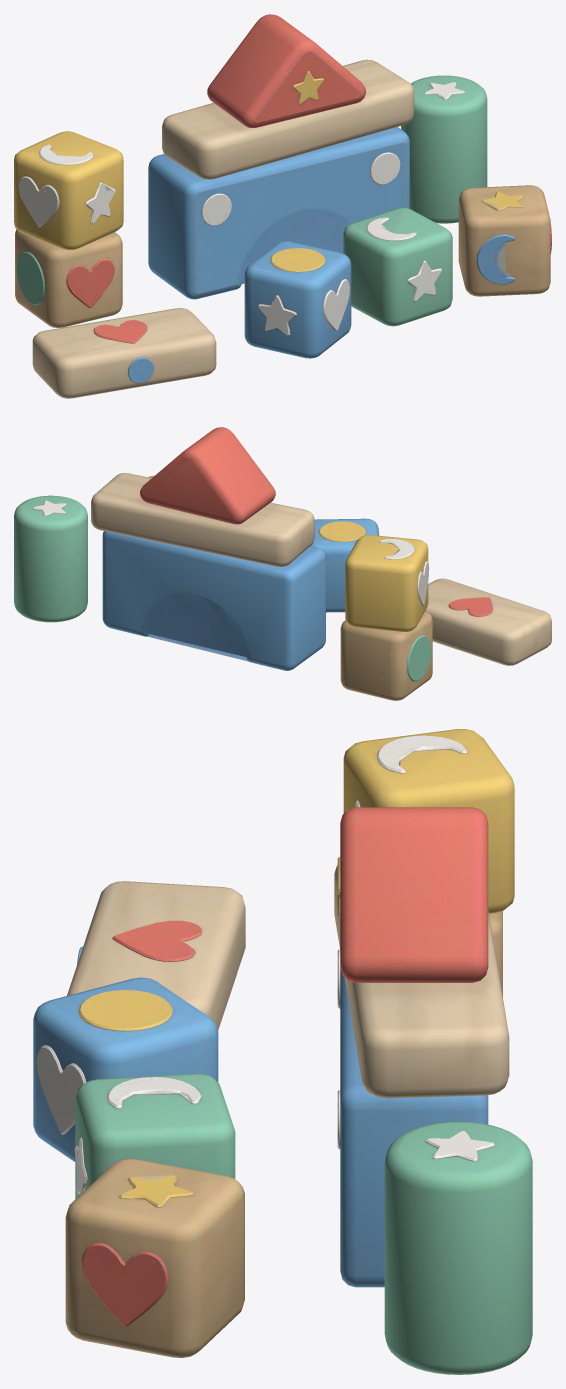
Rendered from g3d_toy_blocks.glb.
The picture shows the model from 3 angles, top to bottom: view 1: azimuth 30°, elevation 25°; view 2: azimuth 150°, elevation 25°; view 3: azimuth 270°, elevation 25°; orthographic projection. The views are drawn at different scales.
Parts seen in each view (by area): view 1: toy-blocks_body, toy-blocks_body_lo; view 2: toy-blocks_body, toy-blocks_body_lo; view 3: toy-blocks_body, toy-blocks_body_lo.
Part boxes in pixels (x1,y1,x2,y2): toy-blocks_body: [14, 14, 551, 398]; toy-blocks_body_lo: [30, 71, 550, 379]; toy-blocks_body: [14, 427, 551, 700]; toy-blocks_body_lo: [32, 500, 469, 661]; toy-blocks_body: [33, 729, 532, 1374]; toy-blocks_body_lo: [42, 745, 494, 1277].
Size of the model in its own units: 0.2795 by 0.1181 by 0.135.
Materials: 1 (1 with a texture image).
